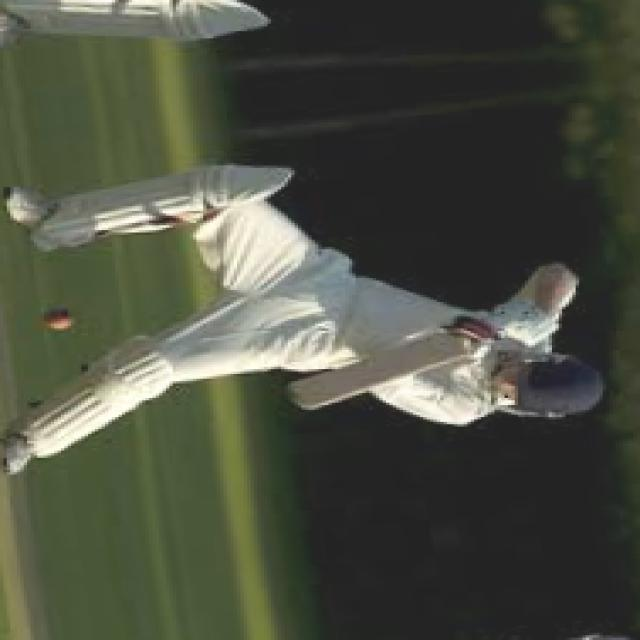toe: (254, 372, 350, 416)
